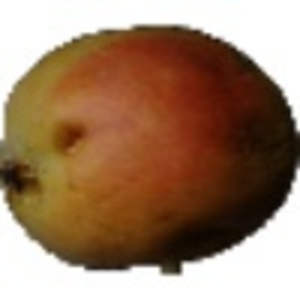mamão: (4, 20, 297, 267)
